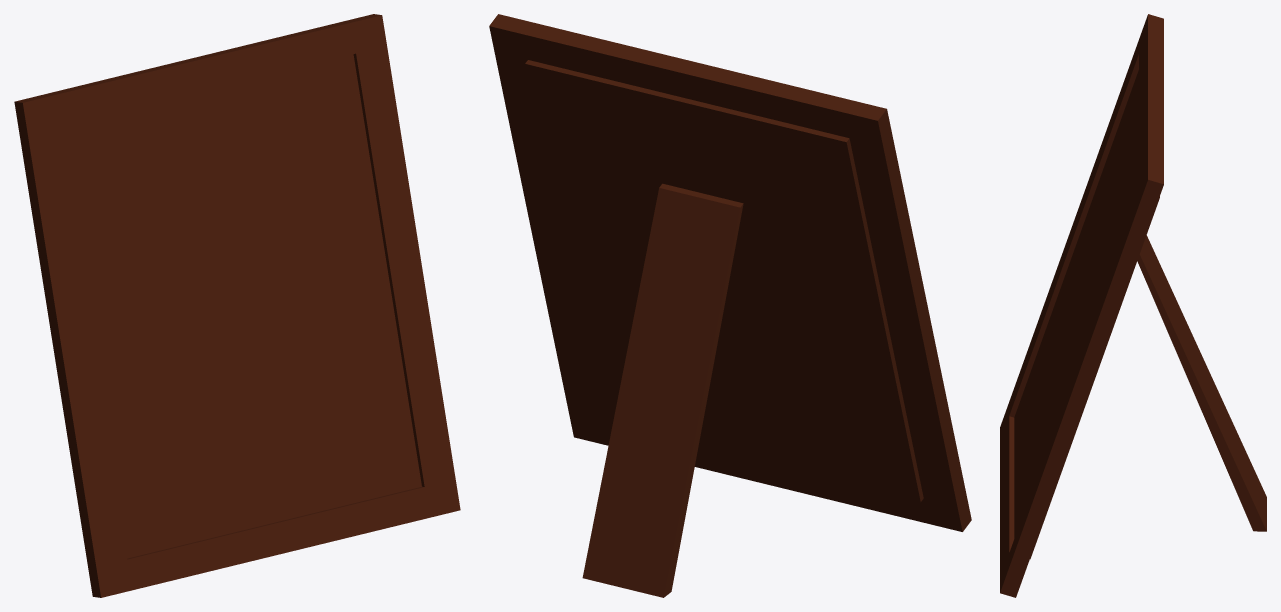
File: pictureframeOptionalInterest.fbx
3 renders of one model, left to right at view 1: azimuth 30°, elevation 25°; view 2: azimuth 150°, elevation 25°; view 3: azimuth 270°, elevation 25°, orthographic. The views are drawn at different scales.
Parts seen in each view (by area): view 1: Cube; view 2: Cube; view 3: Cube.
Boxes of the visible parts, box(x1,y1,x2,y2) form: Cube: box(14, 14, 460, 597); Cube: box(489, 14, 971, 597); Cube: box(1000, 14, 1266, 597).
Bounding box in the file's own units: 602 × 708 × 410.
